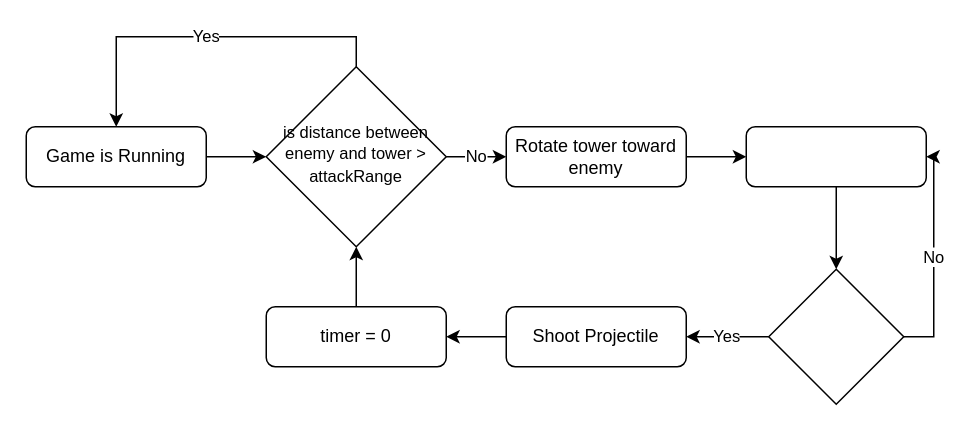
The diagram is 972 pixels wide and 431 high, and some of its shapes have lost their labels. The shapes that lost their labels are listed below. From the top down, each one's centre as x and y in pixels, then its label:
At [835,156]: "timer = timer + real time".
At [835,336]: "if timer > fireRate".
